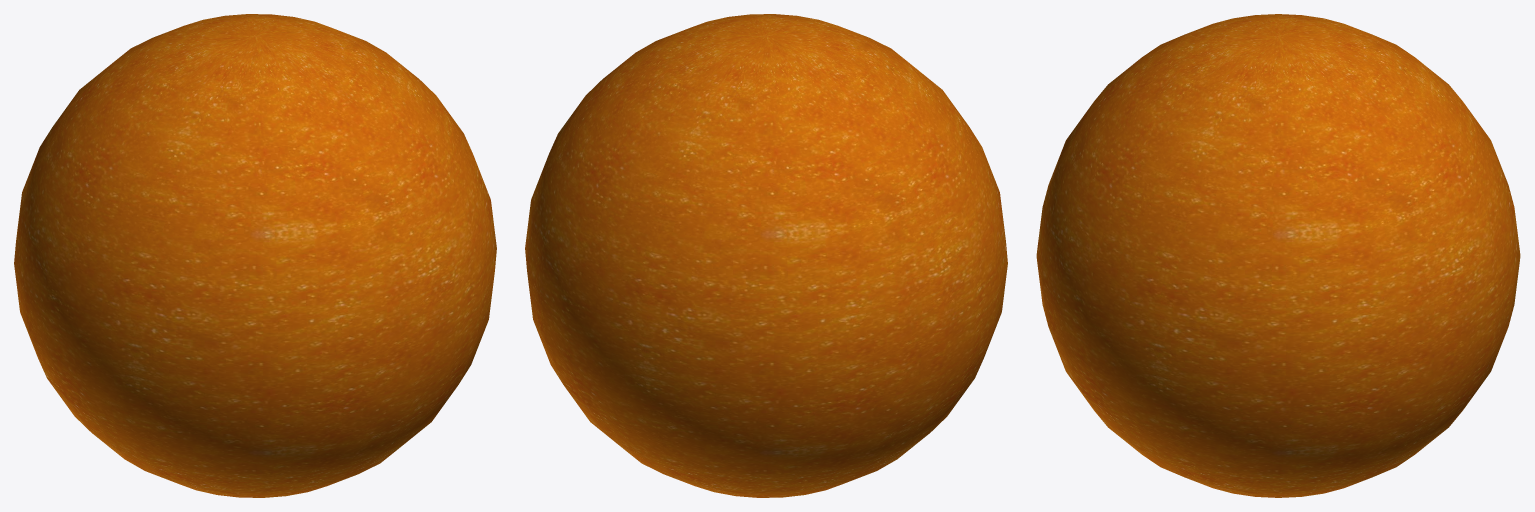
The model's file is orange.obj.
3 renders of one model, left to right at view 1: azimuth 30°, elevation 25°; view 2: azimuth 150°, elevation 25°; view 3: azimuth 270°, elevation 25°, orthographic.
Parts seen in each view (by area): view 1: pomorandza; view 2: pomorandza; view 3: pomorandza.
Boxes of the visible parts, left/top/right/bottom form: pomorandza: left=14, top=14, right=496, bottom=497; pomorandza: left=525, top=14, right=1007, bottom=497; pomorandza: left=1036, top=14, right=1520, bottom=497.
Bounding box in the file's own units: 3.78 × 3.78 × 3.78.
